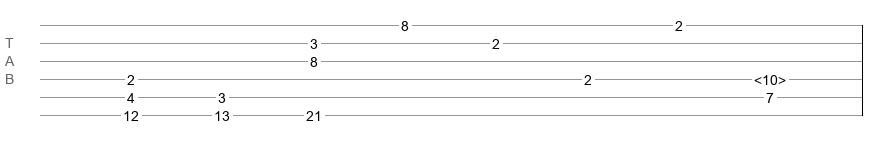12: (123, 108, 139, 118)
13: (214, 108, 230, 118)
2: (127, 72, 135, 82), (492, 36, 500, 46), (584, 72, 592, 82), (675, 18, 683, 28)
21: (306, 108, 322, 118)
3: (218, 90, 226, 100), (310, 36, 318, 46)
4: (127, 90, 135, 100)
7: (766, 90, 774, 100)
8: (310, 54, 318, 64), (401, 18, 409, 28)
harmonic: (754, 72, 786, 82)
